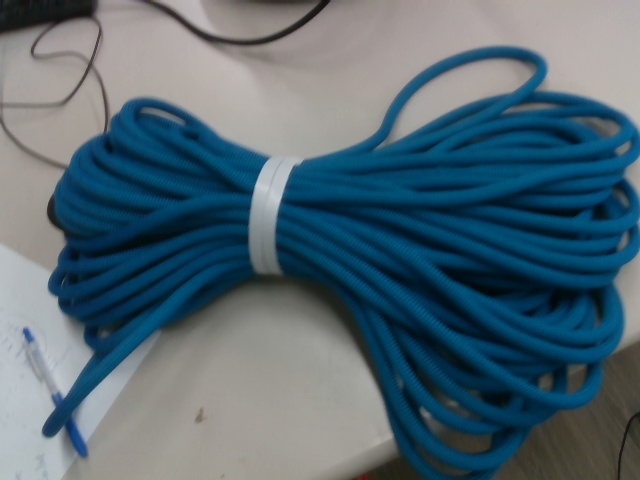rope: (39, 42, 640, 480)
